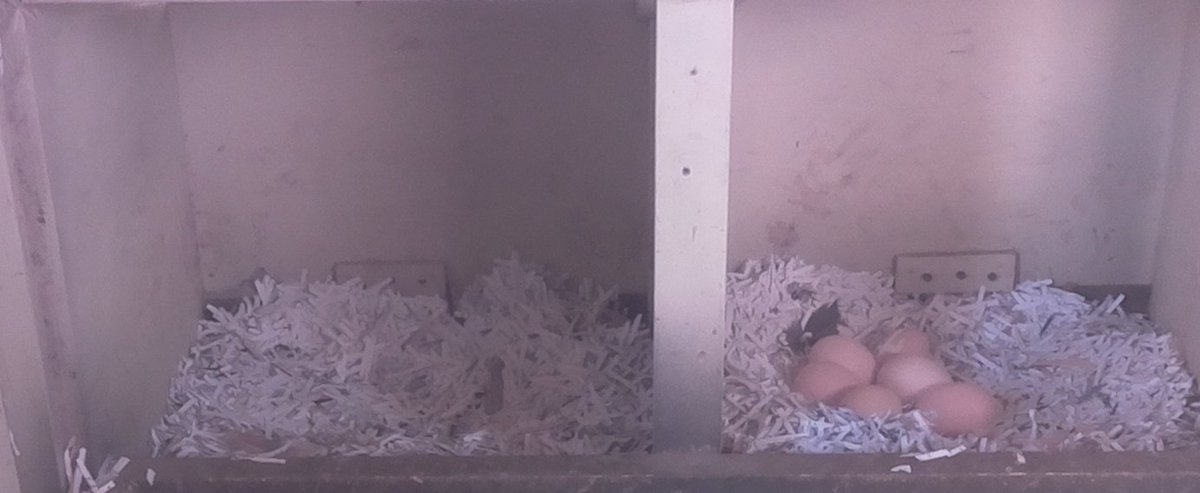egg: (906, 382, 1008, 440), (805, 333, 881, 387), (787, 358, 867, 409), (872, 349, 956, 392), (837, 378, 906, 424), (878, 326, 931, 358)
